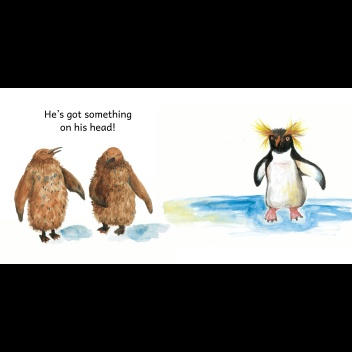latin: (42, 106, 132, 121), (58, 121, 116, 133)
